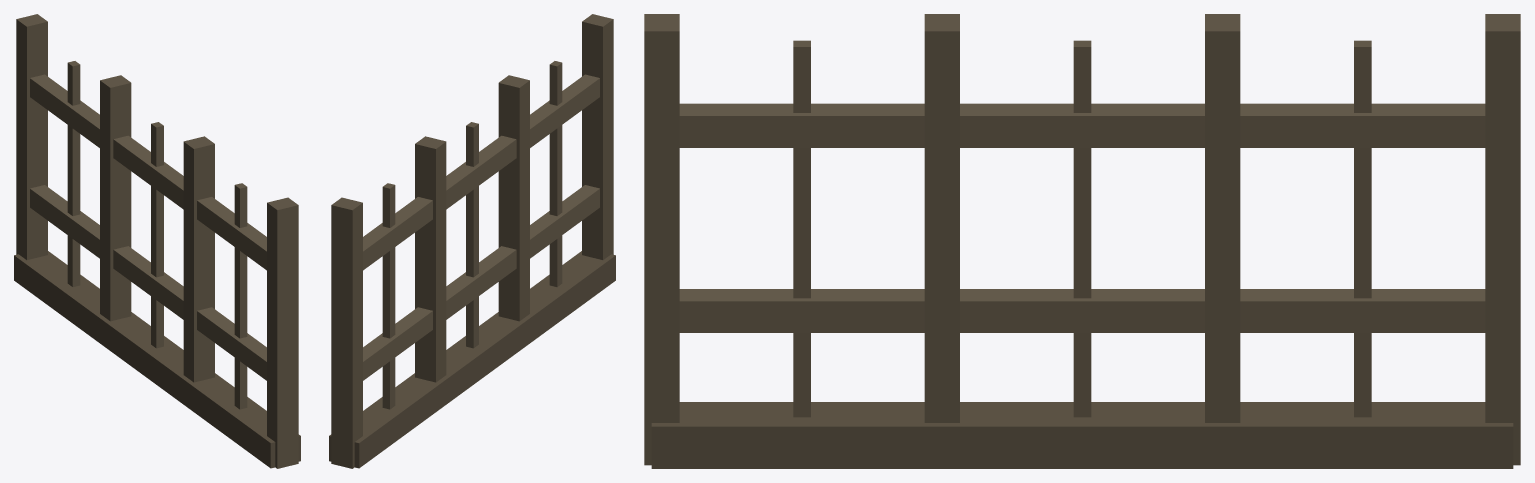
File: prop_fence_b.glb
3 views of the same model, side by side, from view 1: azimuth 30°, elevation 25°; view 2: azimuth 150°, elevation 25°; view 3: azimuth 270°, elevation 25° (orthographic). The views are drawn at different scales.
Visible parts, largest first — view 1: prop; view 2: prop; view 3: prop.
Boxes of the visible parts, x1,y1,x2,y2 form: prop: (14, 14, 300, 468); prop: (329, 14, 615, 468); prop: (644, 14, 1520, 468).
Size of the model in its own units: 0.2 by 1.64 by 3.
